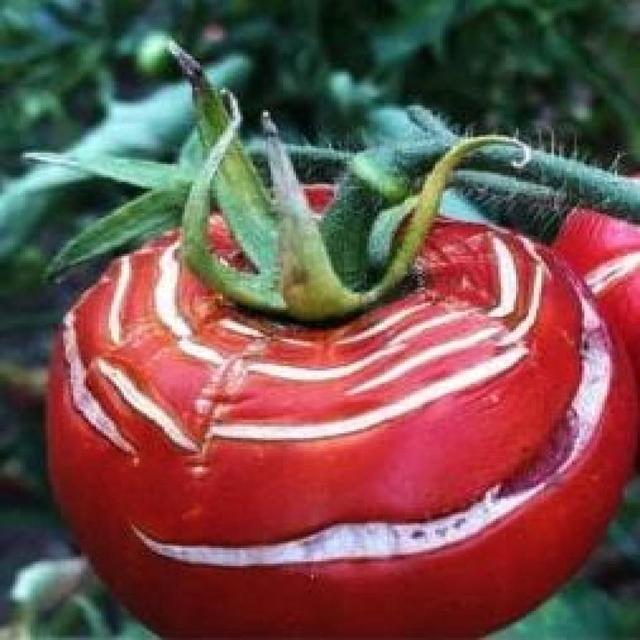Cracking Fruit: (42, 50, 400, 278)
